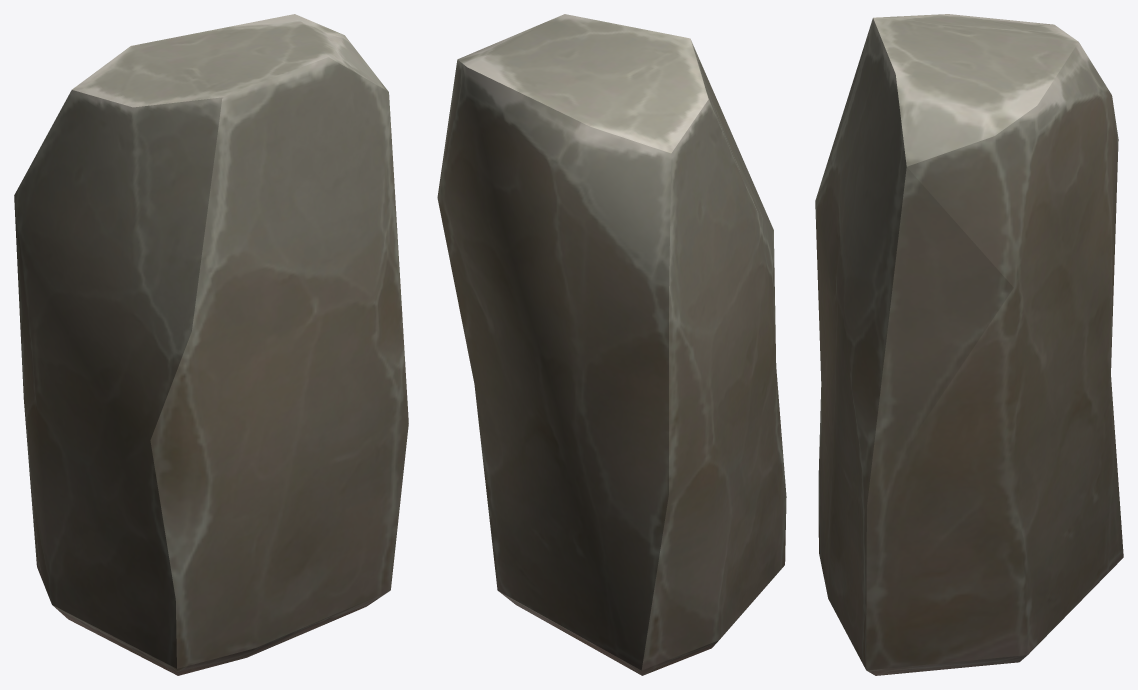
File: rocks_09.glb
The picture shows the model from 3 angles, left to right: view 1: azimuth 30°, elevation 25°; view 2: azimuth 150°, elevation 25°; view 3: azimuth 270°, elevation 25°; orthographic projection. The views are drawn at different scales.
Parts seen in each view (by area): view 1: SM_Rocks_09_RocksStylized_M_0; view 2: SM_Rocks_09_RocksStylized_M_0; view 3: SM_Rocks_09_RocksStylized_M_0.
Boxes of the visible parts, x1,y1,x2,y2 form: SM_Rocks_09_RocksStylized_M_0: (14, 14, 408, 675); SM_Rocks_09_RocksStylized_M_0: (437, 14, 786, 675); SM_Rocks_09_RocksStylized_M_0: (815, 14, 1123, 675).
Bounding box in the file's own units: 8.79 × 15.95 × 7.44.
Materials: 1 (1 with a texture image).
